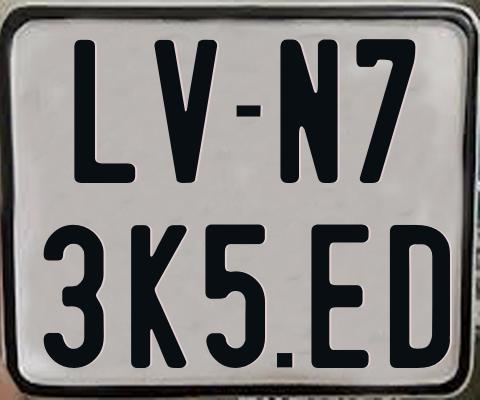3: (40, 222, 107, 371)
5: (202, 221, 268, 370)
7: (355, 39, 417, 189)
D: (390, 222, 452, 366)
E: (311, 224, 375, 370)
K: (128, 223, 186, 371)
L: (72, 40, 135, 184)
N: (277, 37, 338, 187)
V: (152, 39, 219, 185)
